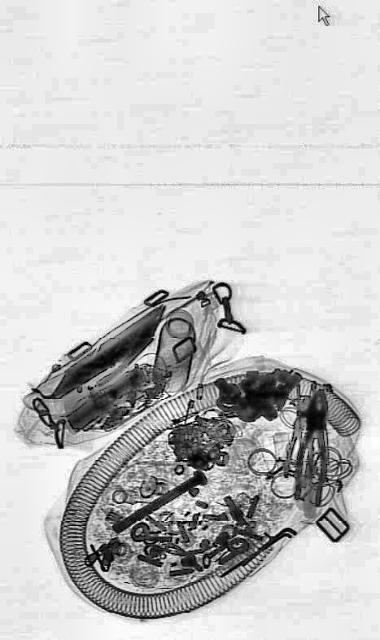Pliers: (291, 384, 335, 506), (281, 389, 319, 483)
